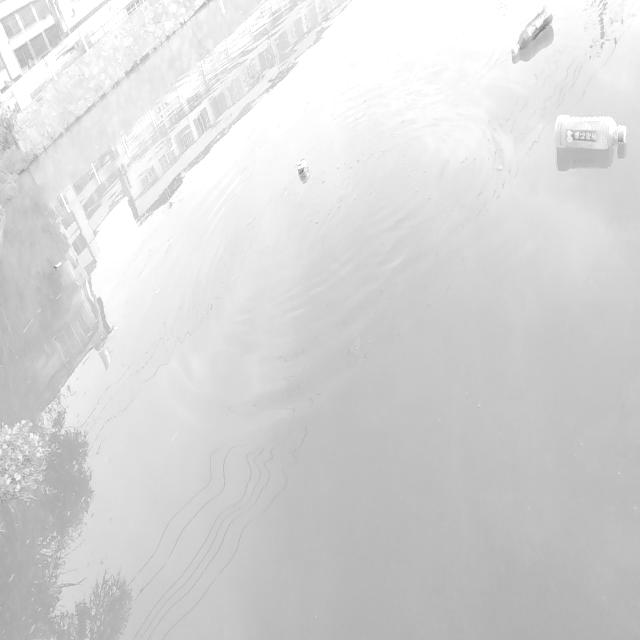bottle: (544, 102, 636, 159), (500, 6, 562, 61)
